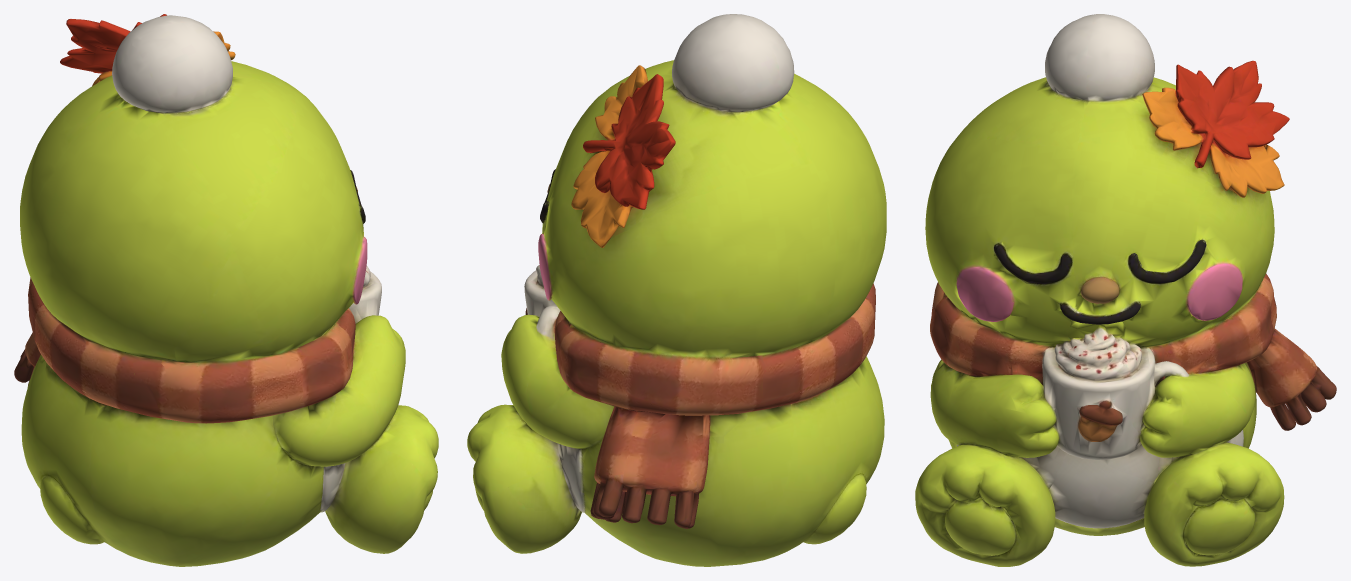
The model's file is autumn-plush.glb.
3 views of the same model, side by side, from view 1: azimuth 30°, elevation 25°; view 2: azimuth 150°, elevation 25°; view 3: azimuth 270°, elevation 25° (orthographic). The views are drawn at different scales.
Visible parts, largest first — view 1: tripo_node_76b5a539-9e89-4346-bd52-4cb8e858a920; view 2: tripo_node_76b5a539-9e89-4346-bd52-4cb8e858a920; view 3: tripo_node_76b5a539-9e89-4346-bd52-4cb8e858a920.
Part boxes in pixels (bbox=[...]): tripo_node_76b5a539-9e89-4346-bd52-4cb8e858a920: bbox=[14, 14, 438, 566]; tripo_node_76b5a539-9e89-4346-bd52-4cb8e858a920: bbox=[467, 14, 886, 566]; tripo_node_76b5a539-9e89-4346-bd52-4cb8e858a920: bbox=[915, 14, 1336, 566].
Size of the model in its own units: 0.6624 by 0.9999 by 0.7974.
Materials: 1 (1 with a texture image).
